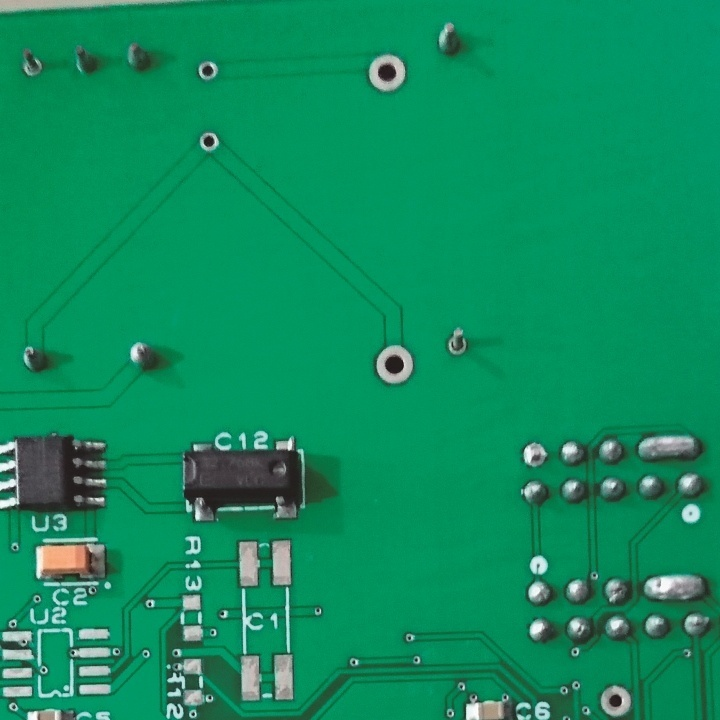F: (364, 51, 410, 96), (373, 342, 418, 387), (596, 684, 633, 717), (444, 324, 472, 359), (521, 441, 550, 472), (16, 48, 44, 78), (193, 60, 221, 84), (198, 130, 221, 155)
P: (640, 570, 708, 607), (633, 432, 703, 465)
